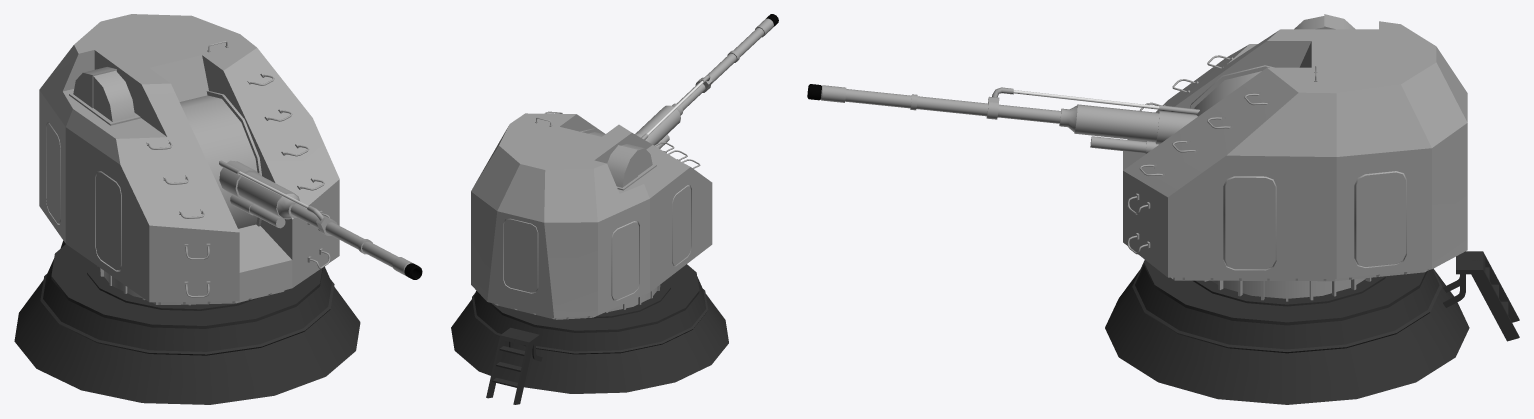
The picture shows the model from 3 angles, left to right: view 1: azimuth 30°, elevation 25°; view 2: azimuth 150°, elevation 25°; view 3: azimuth 270°, elevation 25°; orthographic projection. The views are drawn at different scales.
Parts seen in each view (by area): view 1: RotZ_8, Stand_11, Barrel_5, RotX_7, Cylinder.005_0, Grip.001_2, BezierCurve_6, Grip_1; view 2: RotZ_8, Stand_11, Barrel_5, Cylinder.005_0, Stair_10, Step_9, BezierCurve_6; view 3: RotZ_8, Stand_11, Barrel_5, Stair_10, RotX_7, BezierCurve_6, Grip.001_2, Cylinder.005_0.
Part boxes in pixels (x1,y1,x2,y2): RotZ_8: (39, 14, 339, 304); Stand_11: (14, 244, 360, 404); Barrel_5: (219, 160, 422, 279); RotX_7: (179, 91, 261, 228); Cylinder.005_0: (69, 67, 140, 125); Grip.001_2: (146, 73, 324, 218); BezierCurve_6: (219, 160, 323, 220); Grip_1: (184, 210, 330, 297); RotZ_8: (471, 113, 712, 319); Stand_11: (451, 264, 728, 393); Barrel_5: (635, 14, 778, 148); Cylinder.005_0: (607, 144, 656, 190); Stair_10: (486, 327, 542, 404); Step_9: (492, 346, 524, 387); BezierCurve_6: (641, 75, 710, 139); RotZ_8: (1123, 21, 1467, 281); Stand_11: (1105, 260, 1469, 404); Barrel_5: (807, 84, 1197, 153); Stair_10: (1443, 251, 1519, 341); RotX_7: (1190, 65, 1274, 116); BezierCurve_6: (992, 87, 1199, 114); Grip.001_2: (1139, 55, 1270, 176); Cylinder.005_0: (1294, 14, 1355, 29).
Bounding box in the file's own units: 4.64 × 4 × 9.06.
Materials: 1 (1 with a texture image).
